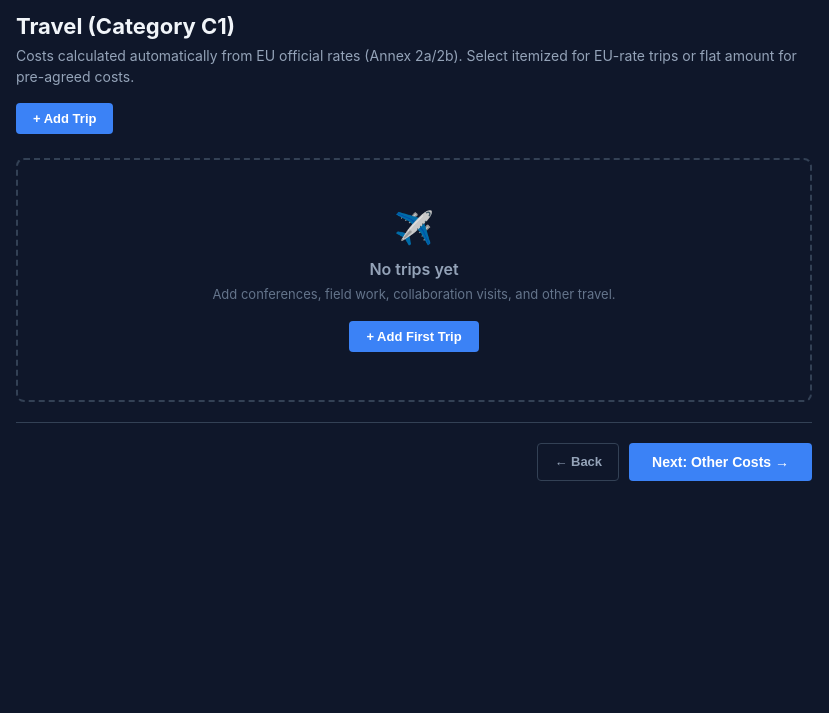
Test: Travel — cost preview rate display › shows both the accommodation and subsistence reference rates once the preview resolves
Click the button "+ Add Trip": (65, 118) [16,103,114,134]
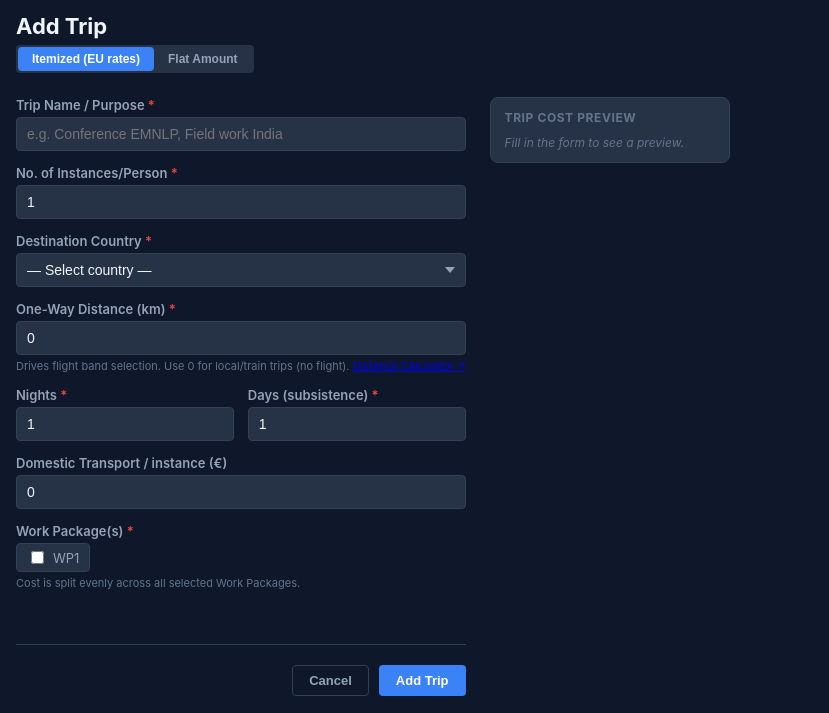
In the field labelled "Trip Name / Purpose": (241, 134) [16,117,466,151], type "Field work India"
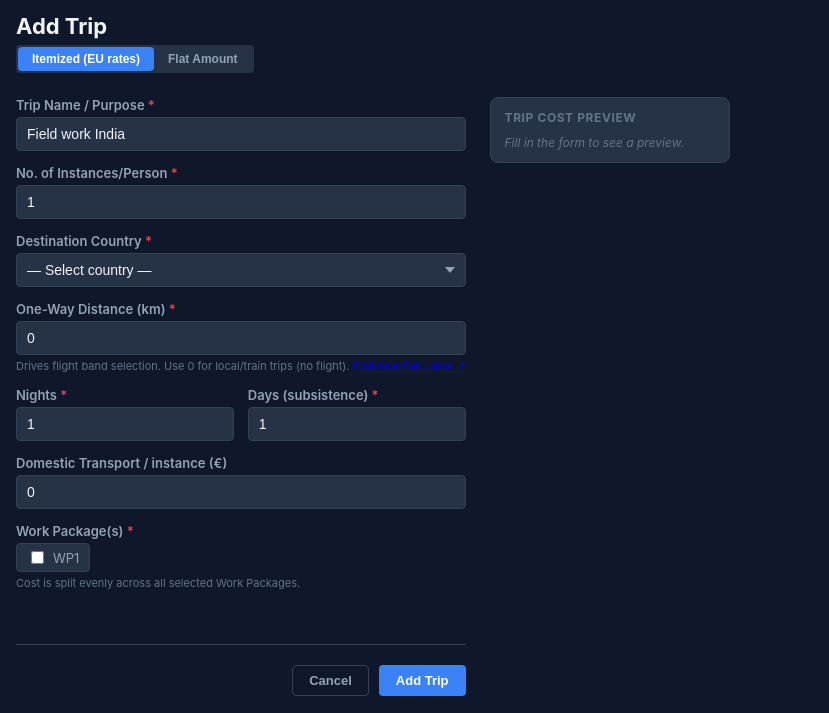
Select "India" in the dropdown labelled "Destination Country": (241, 270) [16,253,466,287]
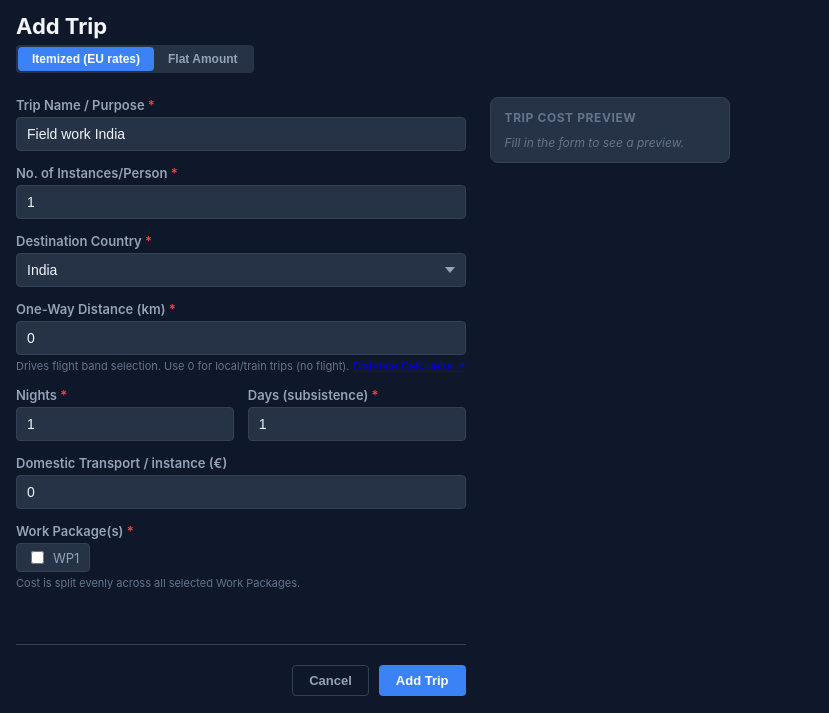
Replace the text in the number field labelled "One-Way Distance (km)" with "5800": (241, 338) [16,321,466,355]
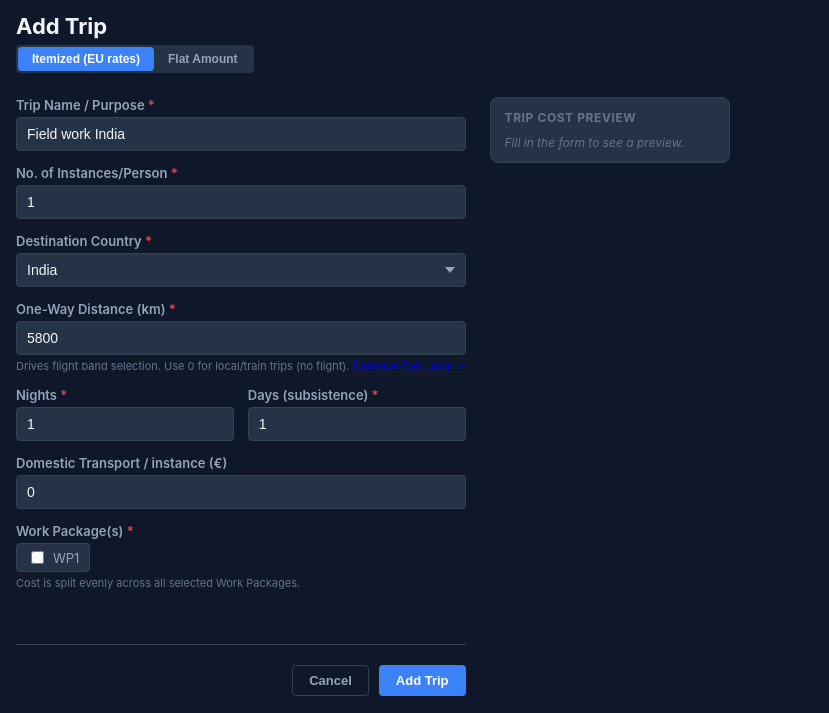
Replace the text in the number field labelled "Nights" with "4": (125, 424) [16,407,234,441]
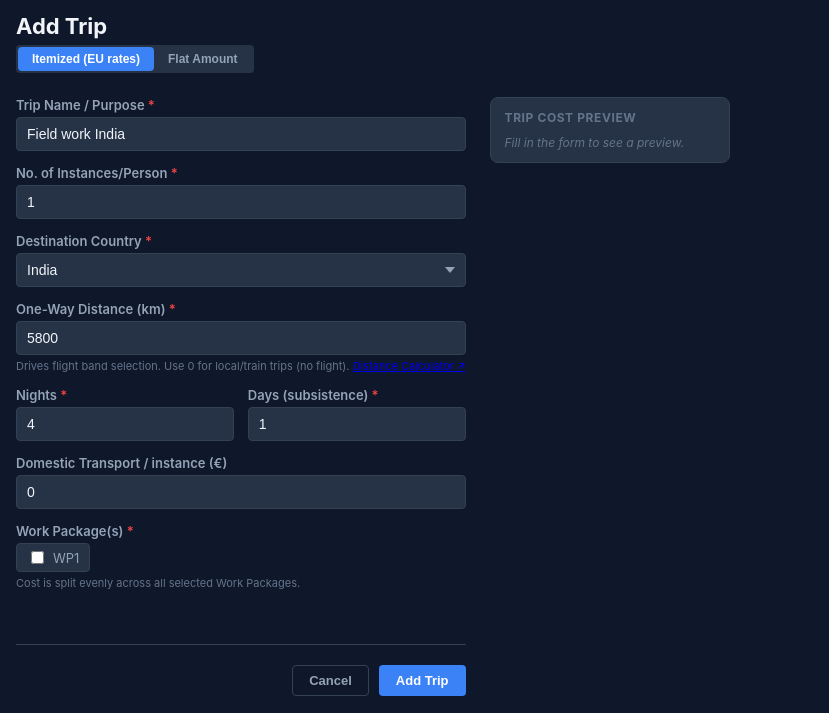
Replace the text in the number field labelled "Days (subsistence)" with "5": (357, 424) [248,407,466,441]
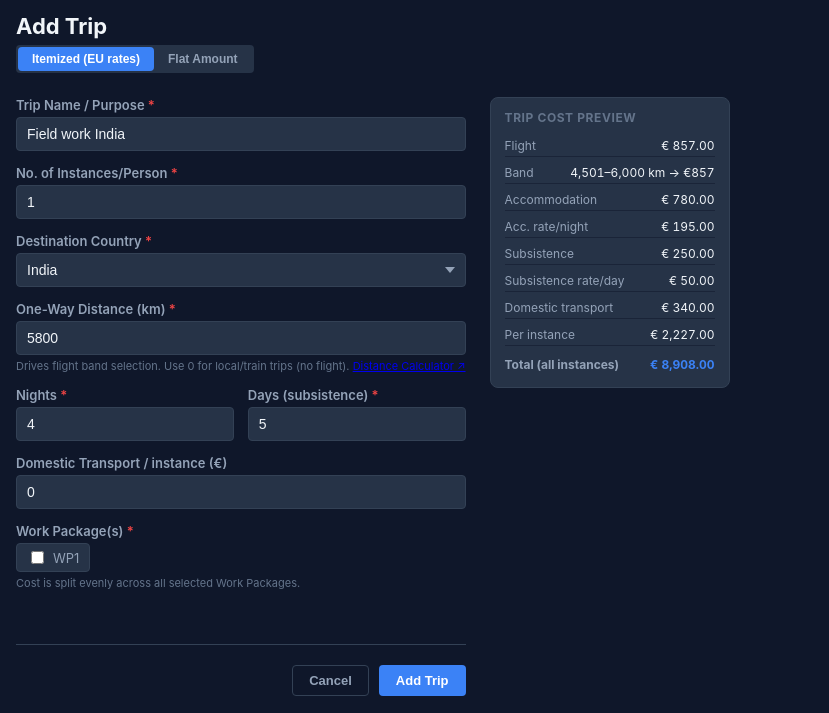
expect the text "Acc. rate/night" is shown: met, box [504,219,588,234]
expect the text "Subsistence rate/day" is shown: met, box [504,273,624,288]
expect the text "Acc. rate/night" shows "195.00": met, box [661,219,715,234]
